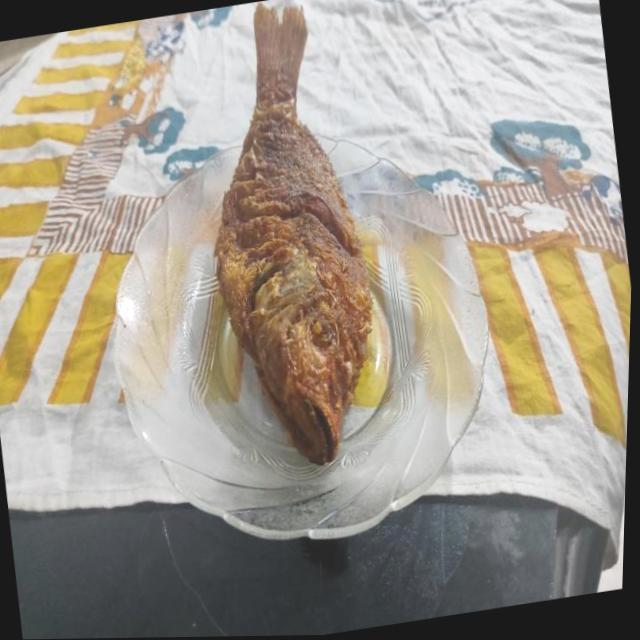ikan_mujair: (215, 5, 372, 464)
